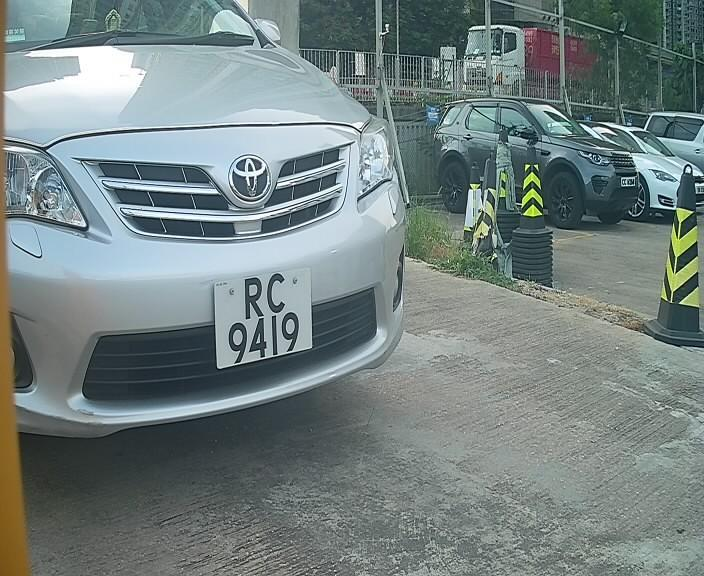privatecar: (1, 6, 431, 453)
